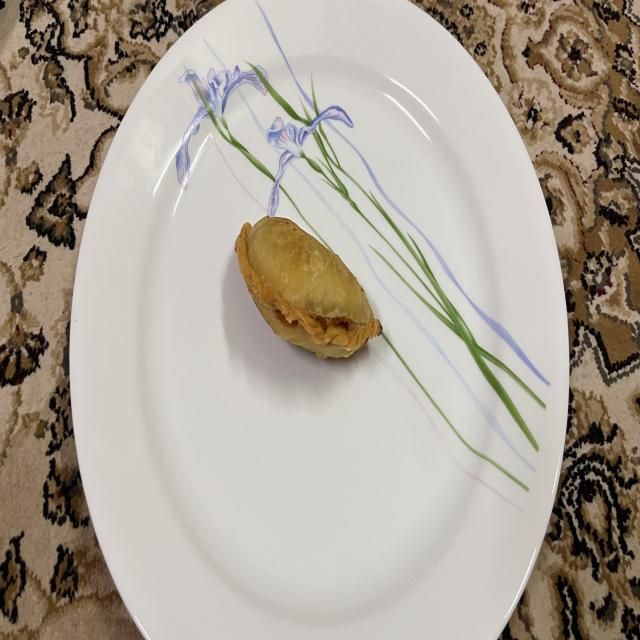karipap: (235, 216, 382, 358)
